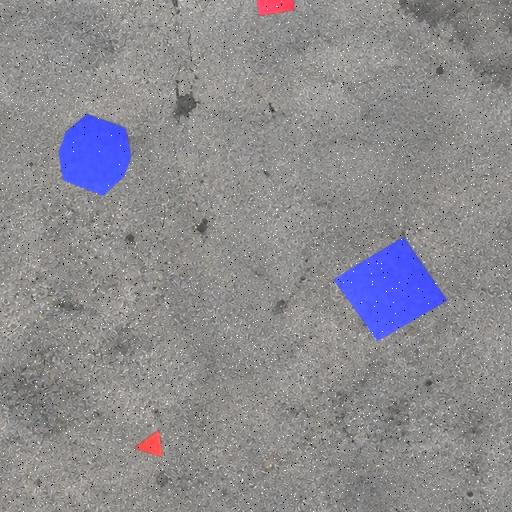BLUE_SQUARE: (333, 236, 448, 342)
